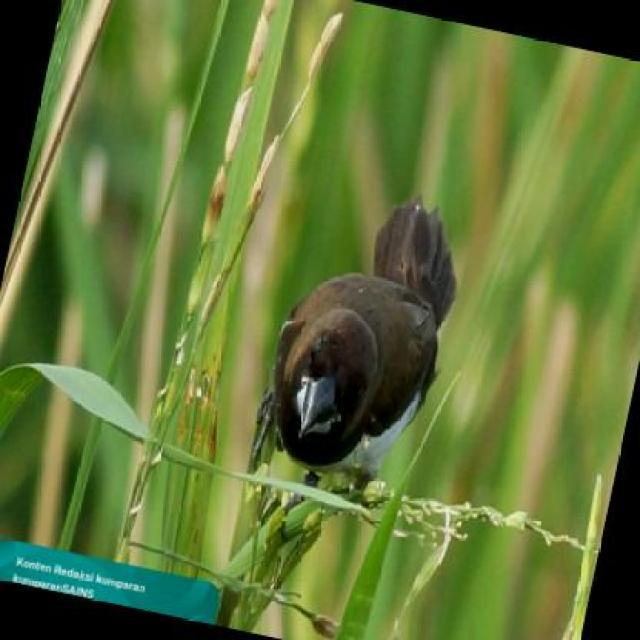Bird: (266, 189, 463, 491)
